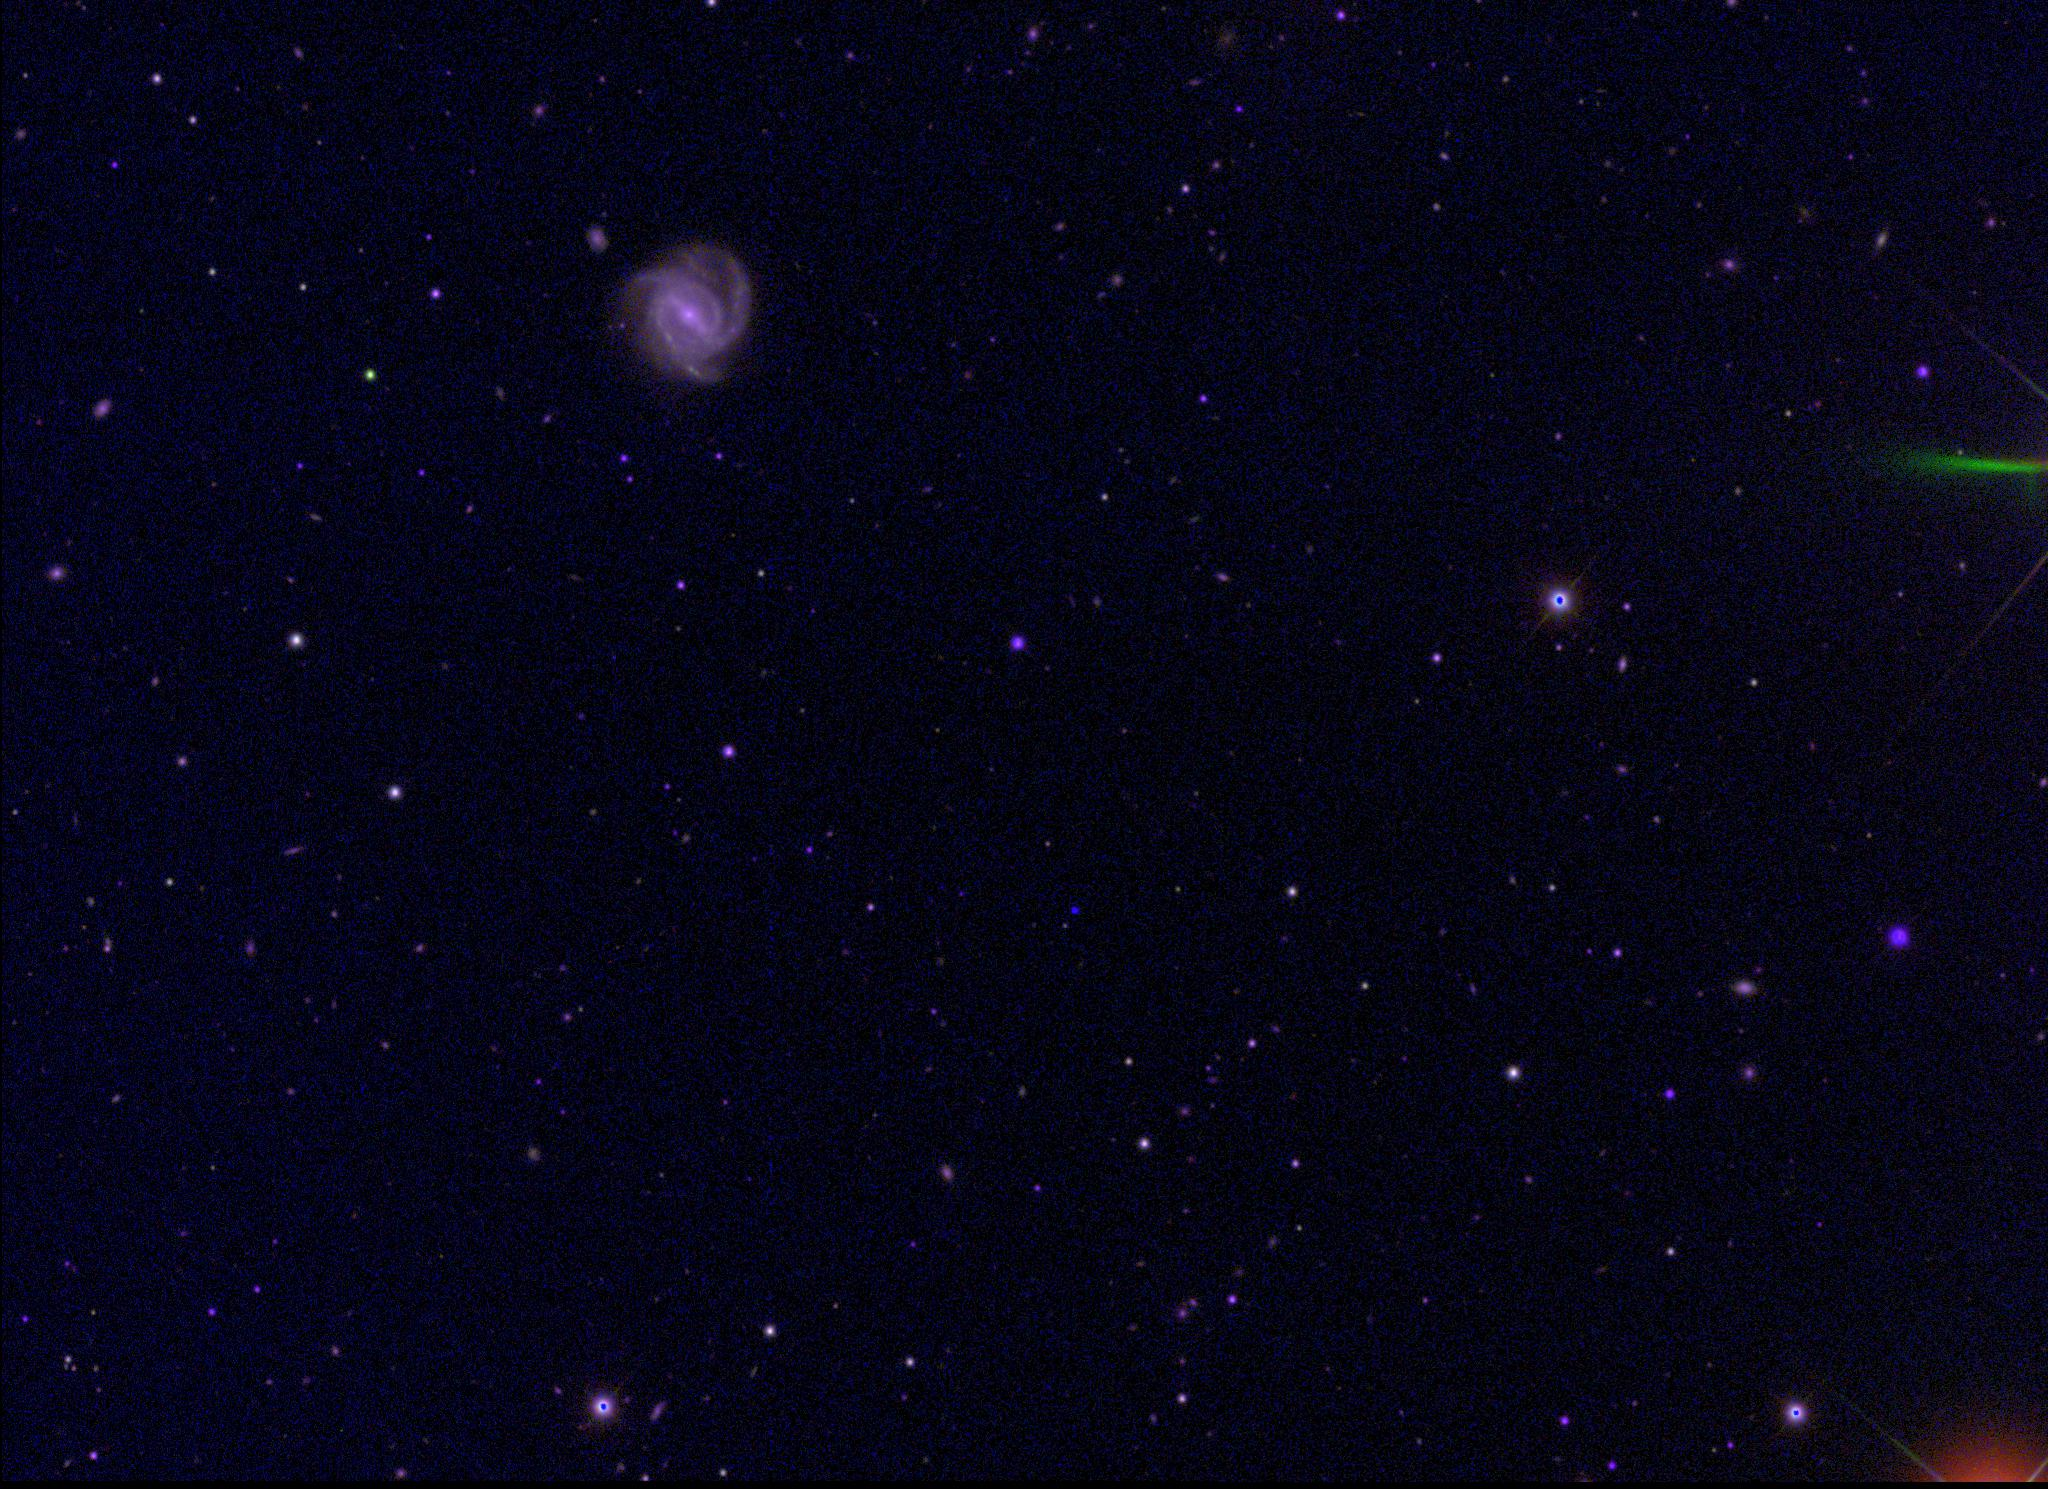L: (1067, 899, 1081, 913)
